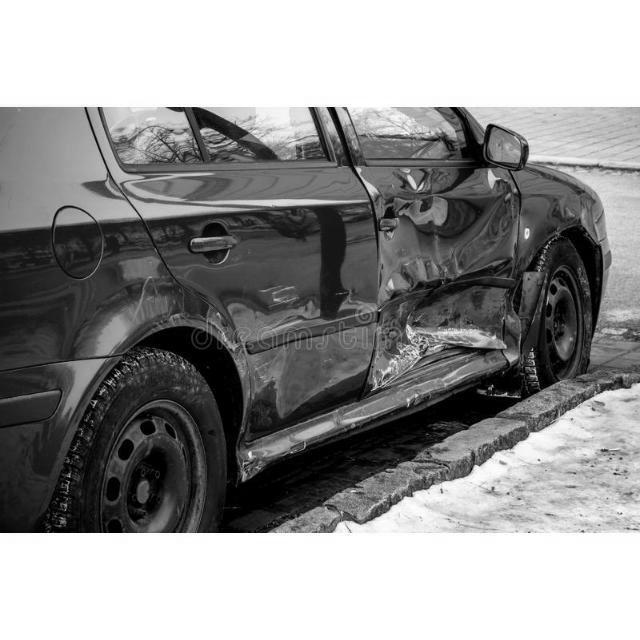Runningboard-Damage: (238, 408, 353, 476), (372, 380, 472, 427)
doorouter-dent: (118, 170, 366, 407), (372, 168, 516, 370)
fender-dent: (519, 174, 594, 276)
